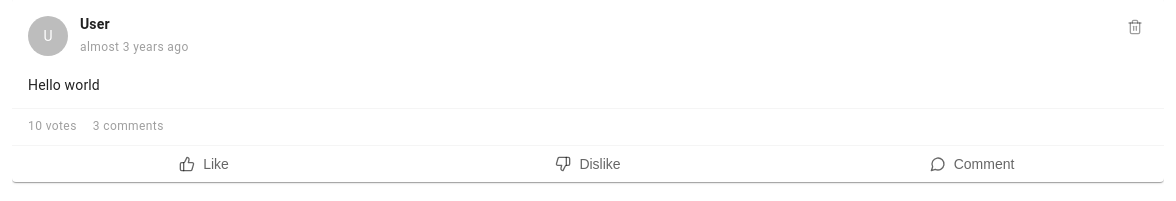
it: ArticleCard › vote counts › updates vote count optimistically on downvote
Click the button "Dislike".
click(588, 164)  # box [396,146,780,182]
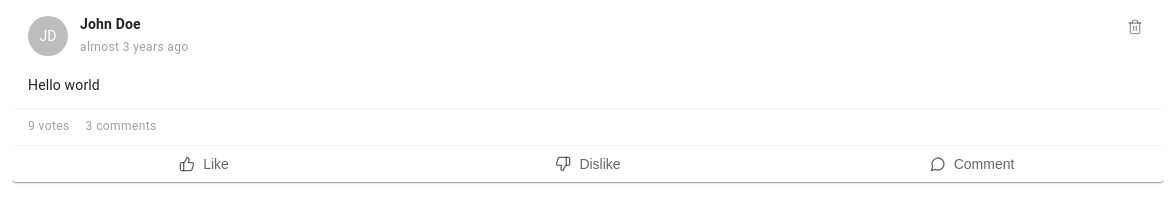
Expected: the text "9 votes" is shown, [28,117,70,137]
